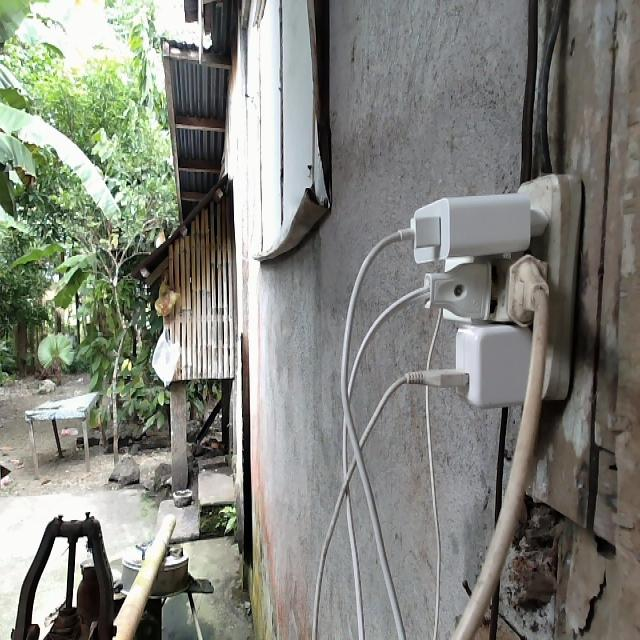-: (391, 173, 581, 412)
